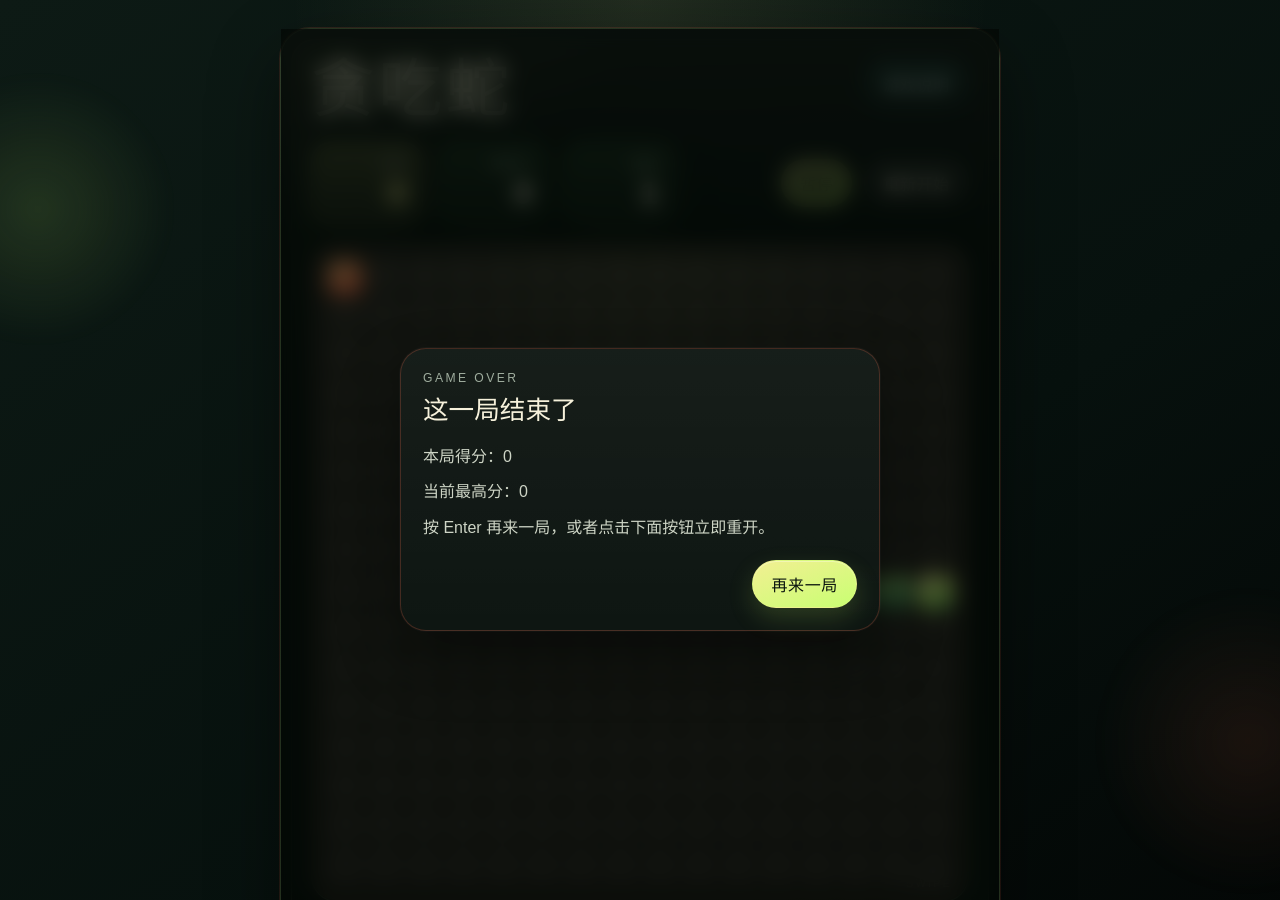
App › restarts from the game over dialog button
The width and height of the screenshot is (1280, 900).
Click the button "再来一局".
click(805, 584)  # box left=752, top=560, right=857, bottom=608
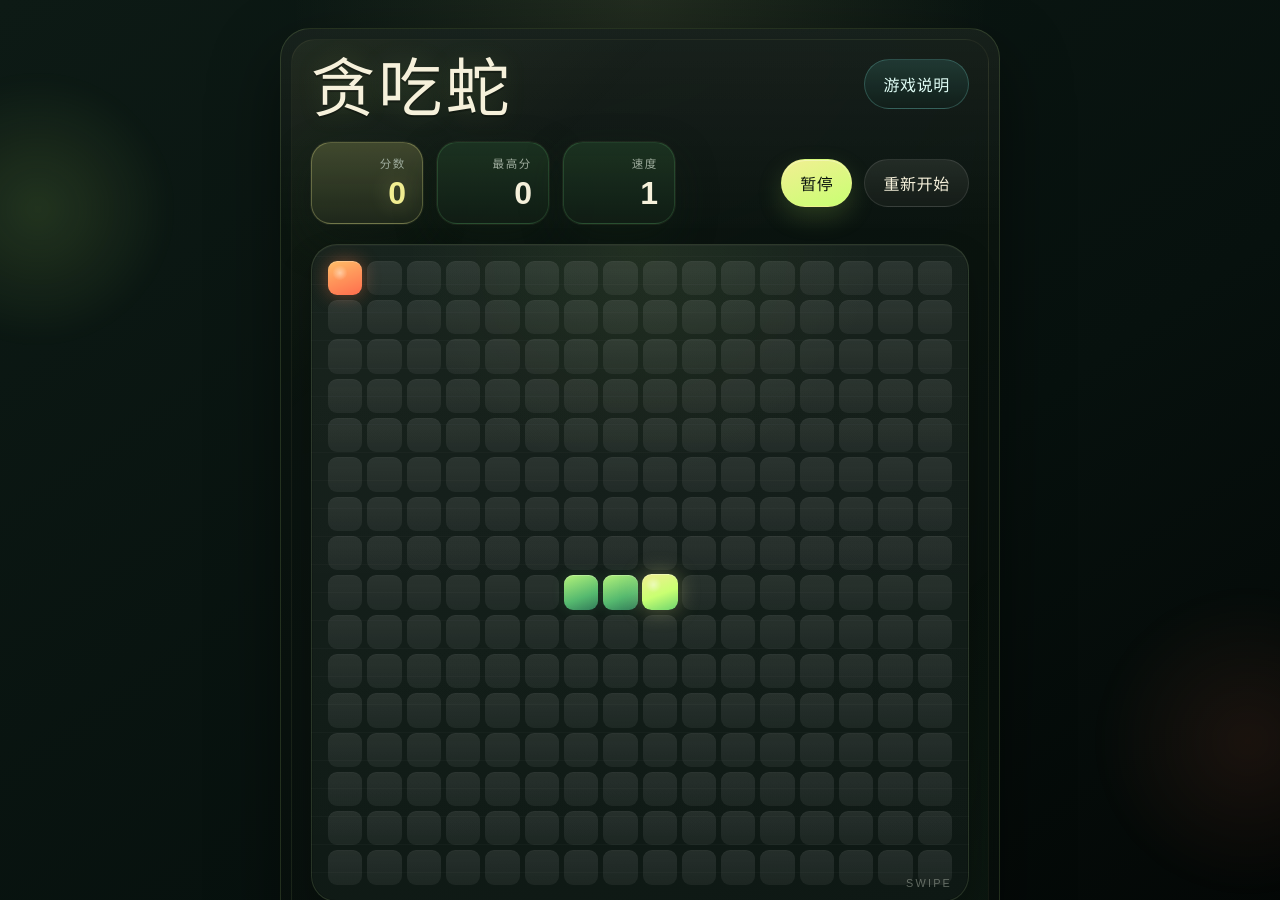
Expected: the heading "这一局结束了" is gone
